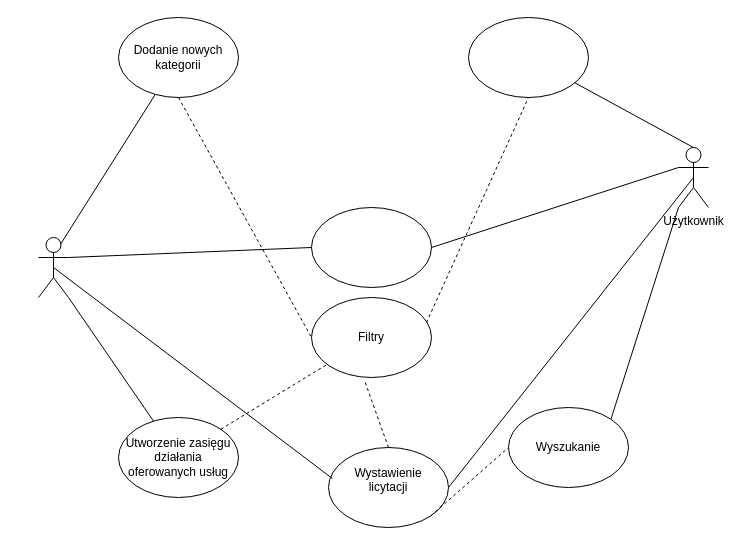
The diagram is 741 pixels wide and 545 high, and some of its shapes have lost their labels. Each missing label, with the box of its shape:
Oceny i opinie: (468, 16, 588, 98)
Tworzenie konta: (310, 206, 432, 288)
Usługodawca: (38, 236, 68, 298)
